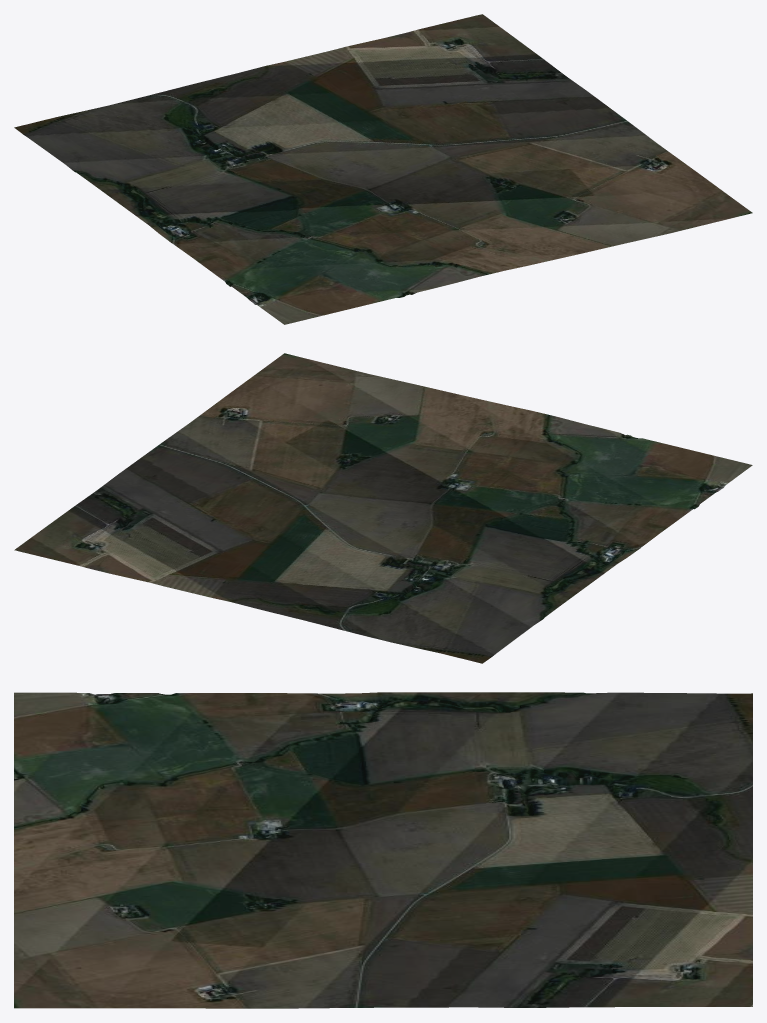
Rendered from map_10_254_432.dae.
3 renders of one model, top to bottom at view 1: azimuth 30°, elevation 25°; view 2: azimuth 150°, elevation 25°; view 3: azimuth 270°, elevation 25°, orthographic. The views are drawn at different scales.
Visible parts, largest first — view 1: Ter0; view 2: Ter0; view 3: Ter0.
Part boxes in pixels (x1=…): Ter0: x1=14, y1=14, x2=752, y2=324; Ter0: x1=14, y1=353, x2=752, y2=663; Ter0: x1=14, y1=692, x2=752, y2=1008.
Size of the model in its own units: 2044 by 2044 by 28.04.
Materials: 3 (3 with a texture image).
